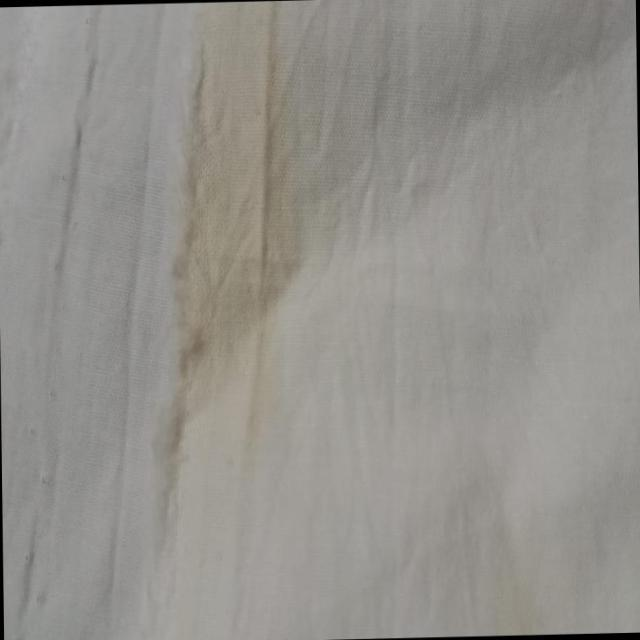stain: (152, 1, 302, 461)
